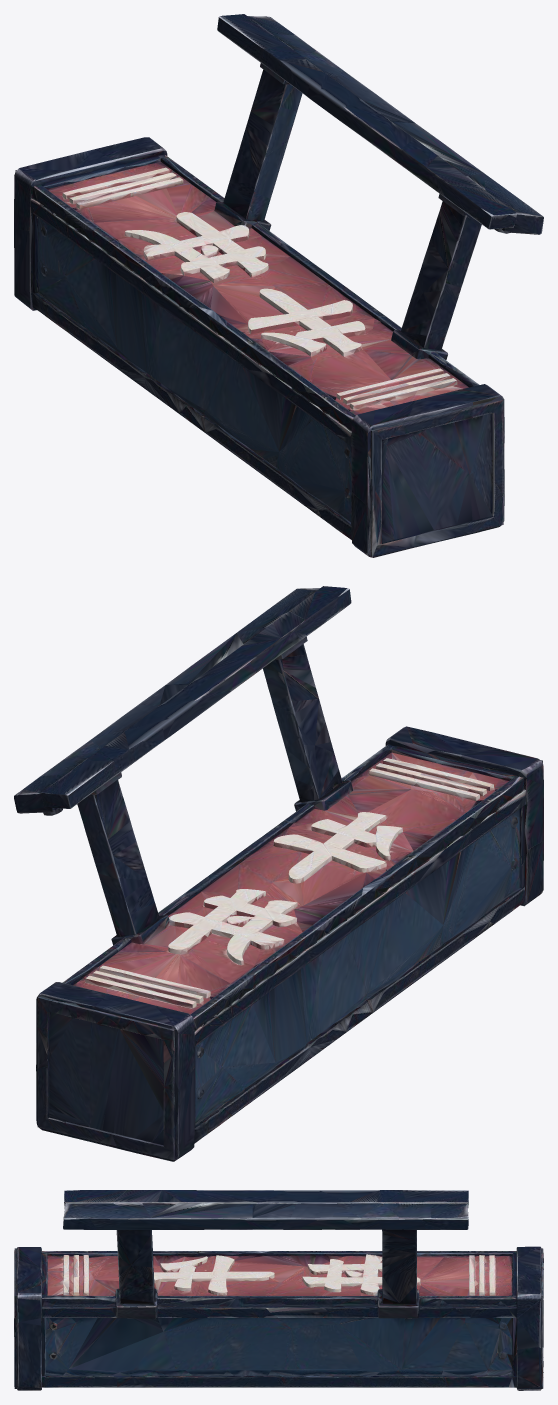
The model's file is store_sign.glb.
3 renders of one model, top to bottom at view 1: azimuth 30°, elevation 25°; view 2: azimuth 150°, elevation 25°; view 3: azimuth 270°, elevation 25°, orthographic. The views are drawn at different scales.
Bounding box in the file's own units: 0.6411 × 0.8312 × 1.91.
1 material, 1 textured.
